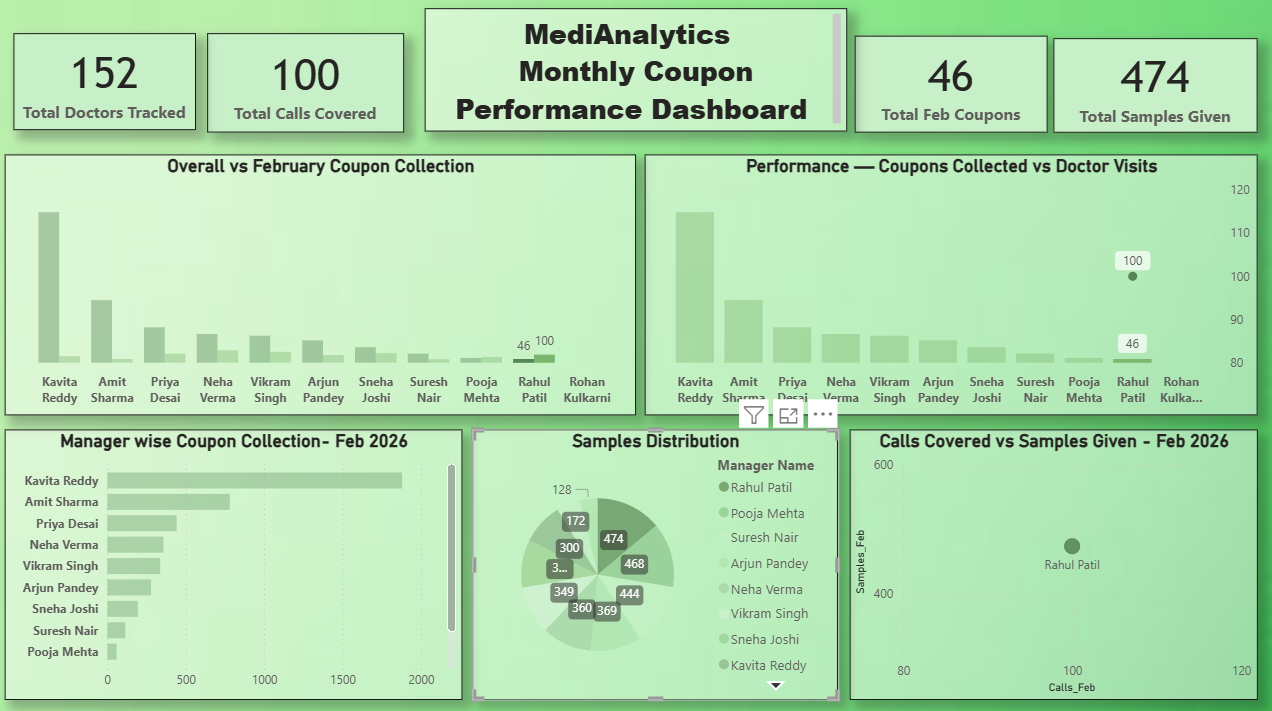

Layout of this report page (visuals, bound fields, positions):
{"tool":"powerbi","page":{"name":"Page 2","canvas":[1280,720],"ordinal":1},"visuals":[{"type":"card","fields":{"Values":["Sum(Coupon_Collection_Feb2026.Calls_Feb)"]},"box":[211.1,41,196.6,98.9],"z":0},{"type":"card","fields":{"Values":["Sum(Coupon_Collection_Feb2026.Coupon_Feb)"]},"box":[859,43.4,193,96.5],"z":1000},{"type":"card","fields":{"Values":["Sum(Coupon_Collection_Feb2026.Samples_Feb)"]},"box":[1058,45.8,203.9,94.1],"z":2000},{"type":"card","fields":{"Values":["Count(Coupon_Collection_Feb2026.Doctor_ID)"]},"box":[16.9,41,182.2,96.5],"z":3000},{"type":"clusteredBarChart","title":"Manager wise Coupon Collection- Feb 2026","fields":{"Category":["Coupon_Collection_Feb2026.Rep_Name"],"Y":["Sum(Coupon_Collection_Feb2026.Coupon_Feb)"]},"box":[8.4,437.9,457.2,270.2],"z":4000},{"type":"scatterChart","title":"Calls Covered vs Samples Given - Feb 2026","fields":{"Category":["Coupon_Collection_Feb2026.Rep_Name"],"X":["Sum(Coupon_Collection_Feb2026.Calls_Feb)"],"Y":["Sum(Coupon_Collection_Feb2026.Samples_Feb)"]},"box":[854.2,437.9,407.8,270.2],"z":5000},{"type":"clusteredColumnChart","title":"Overall vs February Coupon Collection","fields":{"Category":["Coupon_Collection_Feb2026.Rep_Name"],"Y":["Sum(Coupon_Collection_Feb2026.Coupon_Feb)","Sum(Coupon_Collection_Feb2026.Calls_Feb)"]},"box":[8.4,162.9,631,260.6],"z":6000},{"type":"pieChart","title":"Samples Distribution","fields":{"Category":["Coupon_Collection_Feb2026.Rep_Name"],"Y":["Sum(Coupon_Collection_Feb2026.Samples_Feb)"]},"box":[476.5,437.9,365.6,270.2],"z":7000},{"type":"lineStackedColumnComboChart","title":"Performance — Coupons Collected vs Doctor Visits","fields":{"Category":["Coupon_Collection_Feb2026.Rep_Name"],"Y":["Sum(Coupon_Collection_Feb2026.Coupon_Feb)"],"Y2":["Sum(Coupon_Collection_Feb2026.Calls_Feb)"]},"box":[649.1,162.9,612.9,260.6],"z":7001},{"type":"textbox","box":[428.3,15.7,422.3,123.1],"z":7002}]}

Visuals, with their boxes in screenshot pixels (x1, y1, x2, y2), scaled from the page's 1280x720 canvas onto the 1272x711 screenshot:
card - Sum(Coupon_Collection_Feb2026.Calls_Feb): <region>210, 40, 405, 138</region>
card - Sum(Coupon_Collection_Feb2026.Coupon_Feb): <region>854, 43, 1045, 138</region>
card - Sum(Coupon_Collection_Feb2026.Samples_Feb): <region>1051, 45, 1254, 138</region>
card - Count(Coupon_Collection_Feb2026.Doctor_ID): <region>17, 40, 198, 136</region>
"Manager wise Coupon Collection- Feb 2026" clusteredBarChart: <region>8, 432, 463, 699</region>
"Calls Covered vs Samples Given - Feb 2026" scatterChart: <region>849, 432, 1254, 699</region>
"Overall vs February Coupon Collection" clusteredColumnChart: <region>8, 161, 635, 418</region>
"Samples Distribution" pieChart: <region>474, 432, 837, 699</region>
"Performance — Coupons Collected vs Doctor Visits" lineStackedColumnComboChart: <region>645, 161, 1254, 418</region>
textbox: <region>426, 16, 845, 137</region>
